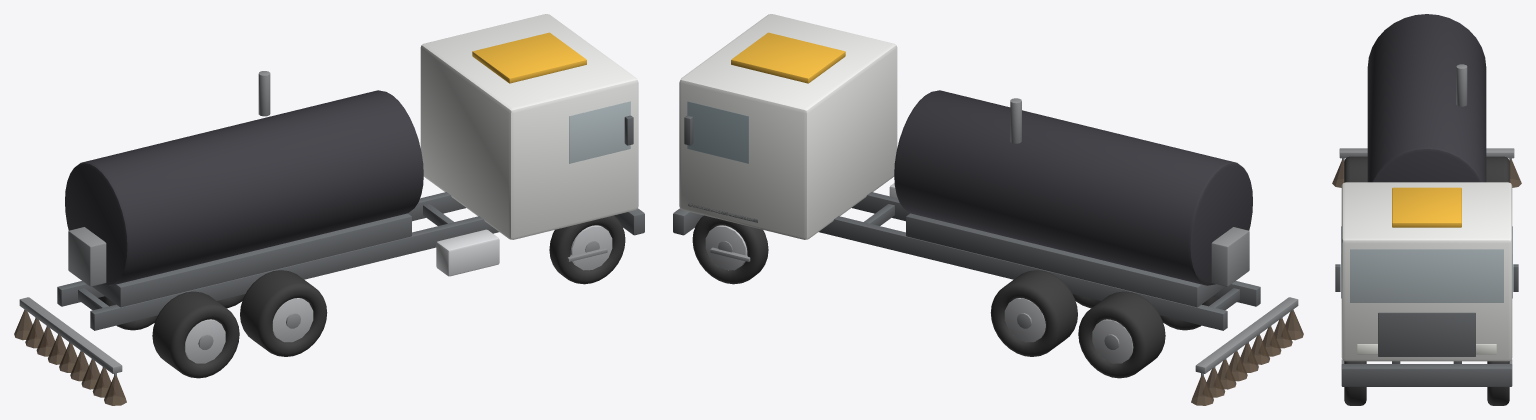
File: EQP-ASF-002.glb
The picture shows the model from 3 angles, left to right: view 1: azimuth 30°, elevation 25°; view 2: azimuth 150°, elevation 25°; view 3: azimuth 270°, elevation 25°; orthographic projection. The views are drawn at different scales.
Parts seen in each view (by area): view 1: EQP-ASF-002_tanque, EQP-ASF-002_cab, EQP-ASF-002_berco, EQP-ASF-002_chassi_e, EQP-ASF-002_roda4_pneu, EQP-ASF-002_roda2_pneu, EQP-ASF-002_luzes, EQP-ASF-002_janela-1, EQP-ASF-002_roda0_pneu, EQP-ASF-002_tanque_comb, EQP-ASF-002_queimador, EQP-ASF-002_barra (+5 smaller); view 2: EQP-ASF-002_tanque, EQP-ASF-002_cab, EQP-ASF-002_berco, EQP-ASF-002_chassi_d, EQP-ASF-002_roda5_pneu, EQP-ASF-002_roda3_pneu, EQP-ASF-002_luzes, EQP-ASF-002_janela1, EQP-ASF-002_roda1_pneu, EQP-ASF-002_queimador, EQP-ASF-002_barra, EQP-ASF-002_chassi_e (+3 smaller); view 3: EQP-ASF-002_cab, EQP-ASF-002_tanque, EQP-ASF-002_parabrisa, EQP-ASF-002_grade, EQP-ASF-002_parachoque, EQP-ASF-002_luzes, EQP-ASF-002_roda4_pneu, EQP-ASF-002_roda5_pneu, EQP-ASF-002_barra, EQP-ASF-002_chamine, EQP-ASF-002_roda0_pneu, EQP-ASF-002_roda1_pneu (+4 smaller).
Boxes of the visible parts, x1,y1,x2,y2 form: EQP-ASF-002_tanque: [65, 90, 423, 285]; EQP-ASF-002_cab: [420, 14, 638, 239]; EQP-ASF-002_berco: [92, 213, 411, 307]; EQP-ASF-002_chassi_e: [90, 216, 498, 330]; EQP-ASF-002_roda4_pneu: [152, 291, 239, 378]; EQP-ASF-002_roda2_pneu: [240, 270, 327, 356]; EQP-ASF-002_luzes: [472, 32, 586, 83]; EQP-ASF-002_janela-1: [569, 101, 630, 163]; EQP-ASF-002_roda0_pneu: [549, 215, 625, 284]; EQP-ASF-002_tanque_comb: [436, 229, 499, 276]; EQP-ASF-002_queimador: [68, 227, 106, 286]; EQP-ASF-002_barra: [19, 297, 122, 373]; EQP-ASF-002_tanque: [894, 90, 1252, 285]; EQP-ASF-002_cab: [679, 14, 897, 239]; EQP-ASF-002_berco: [906, 213, 1225, 307]; EQP-ASF-002_chassi_d: [819, 216, 1227, 330]; EQP-ASF-002_roda5_pneu: [1078, 291, 1165, 378]; EQP-ASF-002_roda3_pneu: [990, 270, 1077, 356]; EQP-ASF-002_luzes: [731, 32, 845, 83]; EQP-ASF-002_janela1: [687, 101, 748, 163]; EQP-ASF-002_roda1_pneu: [692, 215, 768, 284]; EQP-ASF-002_queimador: [1211, 227, 1249, 286]; EQP-ASF-002_barra: [1195, 297, 1298, 373]; EQP-ASF-002_chassi_e: [852, 192, 1260, 306]; EQP-ASF-002_cab: [1341, 182, 1512, 361]; EQP-ASF-002_tanque: [1367, 14, 1486, 182]; EQP-ASF-002_parabrisa: [1350, 249, 1503, 302]; EQP-ASF-002_grade: [1378, 312, 1475, 356]; EQP-ASF-002_parachoque: [1341, 364, 1512, 386]; EQP-ASF-002_luzes: [1392, 187, 1461, 227]; EQP-ASF-002_roda4_pneu: [1344, 156, 1367, 182]; EQP-ASF-002_roda5_pneu: [1486, 156, 1509, 182]; EQP-ASF-002_barra: [1339, 148, 1514, 158]; EQP-ASF-002_chamine: [1456, 64, 1467, 106]; EQP-ASF-002_roda0_pneu: [1344, 361, 1366, 405]; EQP-ASF-002_roda1_pneu: [1487, 361, 1509, 405].
Size of the model in its own units: 8.32 by 3.4 by 2.72.
